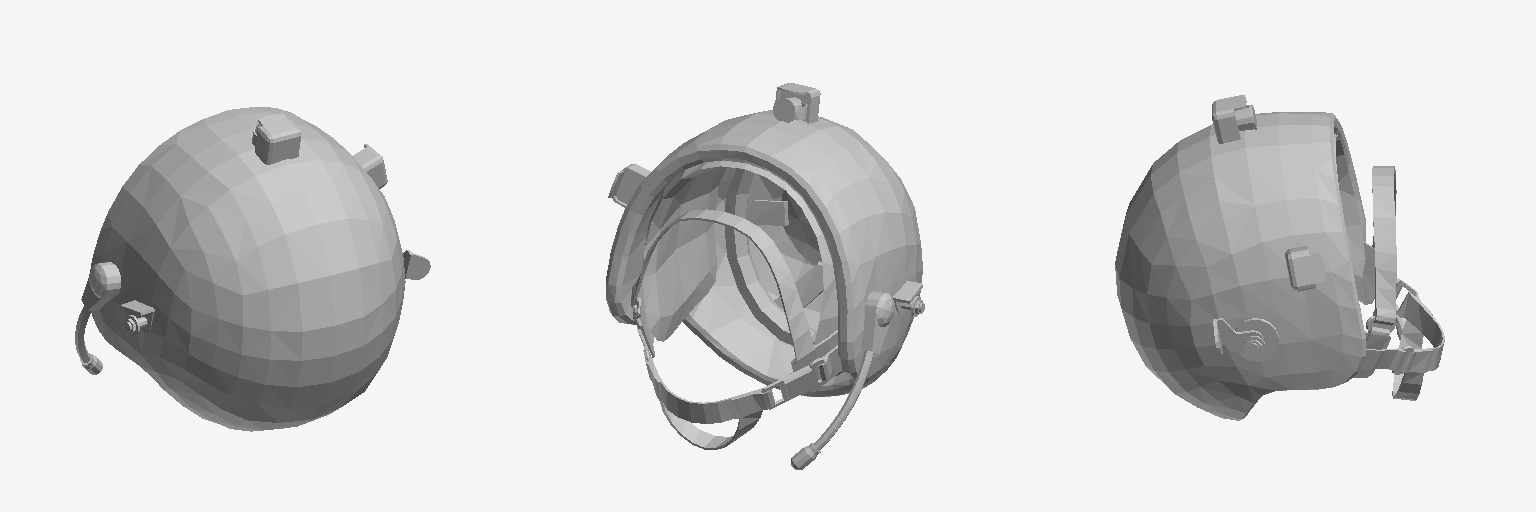
The model's file is zsh1-2m_v2out.obj.
The picture shows the model from 3 angles: view 1: azimuth 30°, elevation 25°; view 2: azimuth 150°, elevation 25°; view 3: azimuth 270°, elevation 25°; orthographic projection.
Visible parts, largest first — view 1: rdmobj00; view 2: rdmobj00; view 3: rdmobj00.
Boxes of the visible parts, box(x1,y1,x2,y2) form: rdmobj00: box(75, 107, 430, 431); rdmobj00: box(606, 83, 924, 469); rdmobj00: box(1115, 95, 1444, 420).
Bounding box in the file's own units: 10.36 × 10.66 × 10.35.